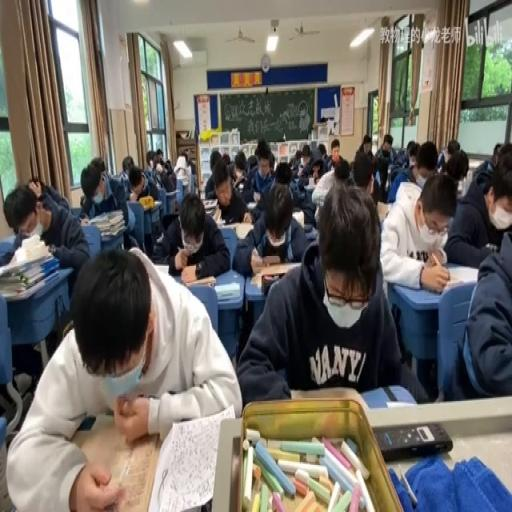calculator: (373, 422, 451, 461), (442, 264, 478, 286), (220, 219, 252, 238), (214, 282, 240, 300), (181, 273, 215, 286), (376, 199, 390, 219), (386, 398, 414, 408), (302, 222, 318, 239), (150, 260, 170, 273), (201, 196, 217, 212), (100, 228, 125, 238), (291, 210, 304, 228), (213, 206, 222, 222), (234, 175, 244, 189), (456, 181, 465, 196), (305, 179, 315, 188), (80, 216, 90, 225), (246, 201, 257, 209), (252, 192, 261, 201), (150, 198, 162, 204)
paper: (11, 244, 239, 506), (236, 180, 422, 406), (2, 180, 89, 294), (381, 165, 457, 290), (445, 147, 512, 267), (155, 189, 230, 277), (80, 158, 131, 254), (123, 158, 166, 247), (204, 153, 254, 222), (286, 154, 321, 228), (347, 148, 378, 206), (374, 132, 394, 192), (413, 141, 438, 189), (155, 156, 177, 192), (182, 152, 196, 186), (390, 145, 410, 168), (91, 155, 107, 181), (357, 131, 373, 156), (334, 156, 350, 180), (274, 161, 290, 182), (128, 170, 142, 194), (118, 170, 132, 194), (458, 148, 468, 179), (28, 178, 42, 199), (234, 150, 246, 174), (447, 139, 460, 158), (253, 139, 264, 161), (122, 154, 134, 174), (246, 155, 258, 174), (436, 148, 446, 168), (406, 141, 416, 159), (292, 148, 302, 166), (146, 151, 155, 168), (492, 142, 501, 158), (301, 145, 310, 161), (268, 152, 275, 172), (155, 148, 163, 163), (318, 142, 326, 156), (222, 150, 230, 164)
person: (262, 273, 286, 296), (262, 253, 280, 265), (173, 199, 178, 212)
